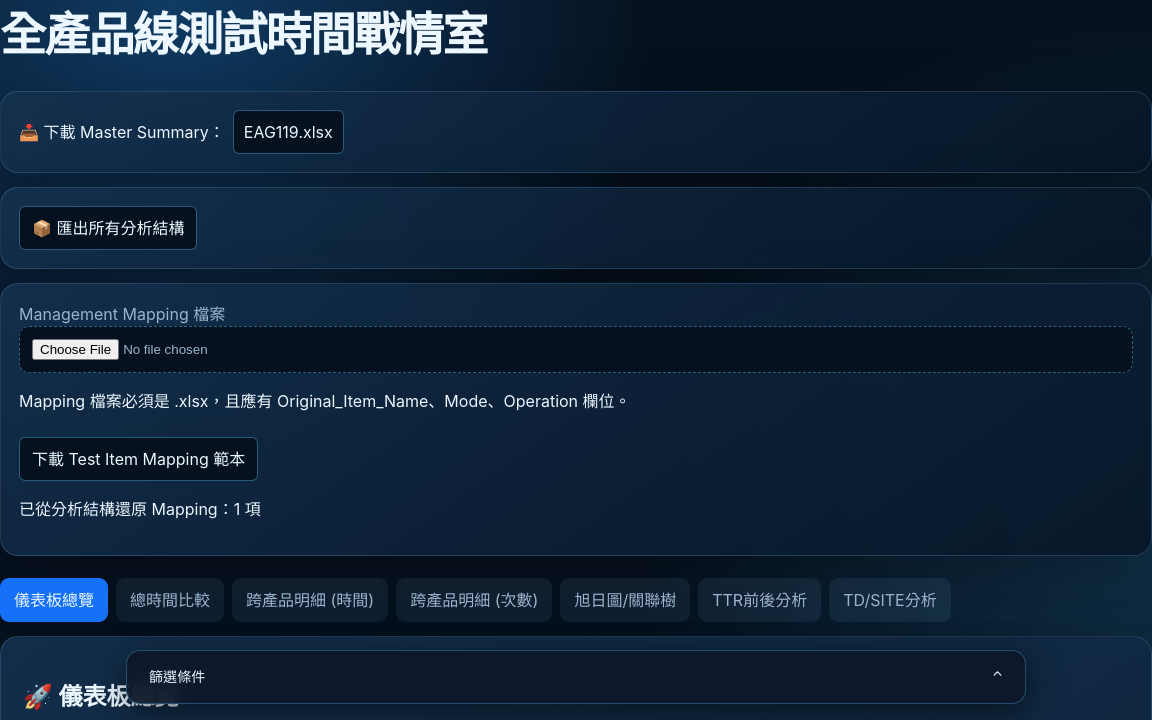
Test: DashboardPage › restores xlsx mapping for the Sunburst and relationship tree
Step 1. Click the tab "旭日圖/關聯樹" → point(625, 600), box x1=560 y1=578 x2=690 y2=622
(page scrolled)
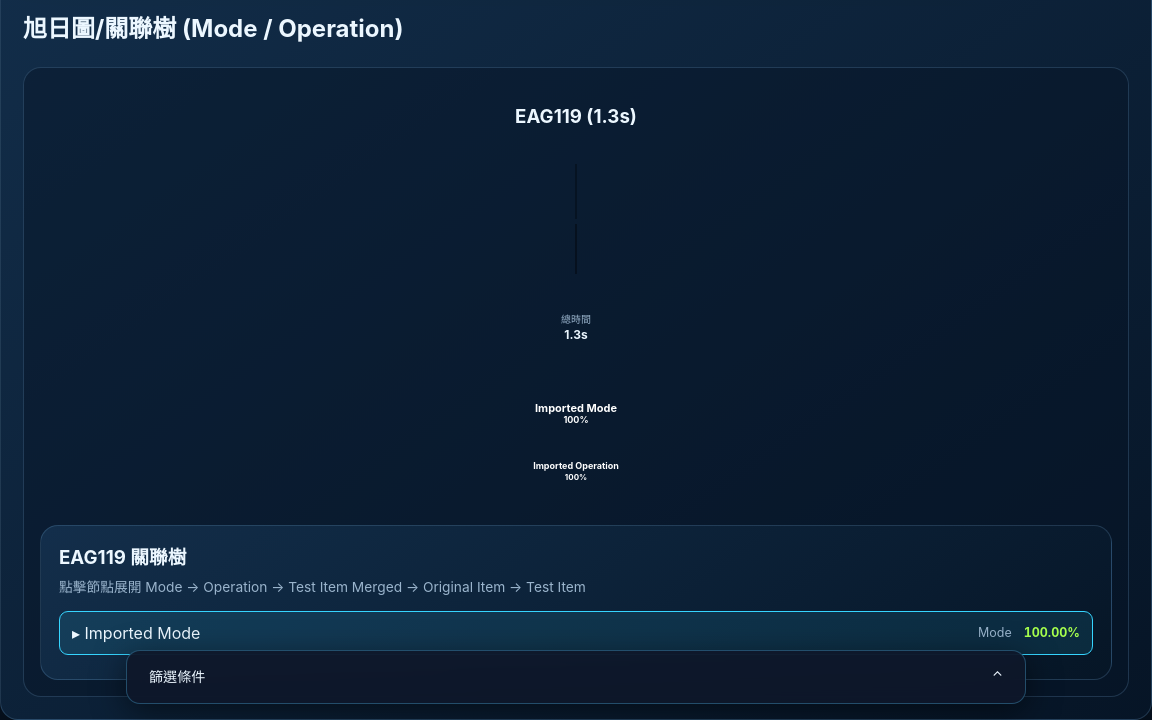
Now the button "▸ Imported Mode Mode 100.00%" is shown, box x1=59 y1=611 x2=1093 y2=655
